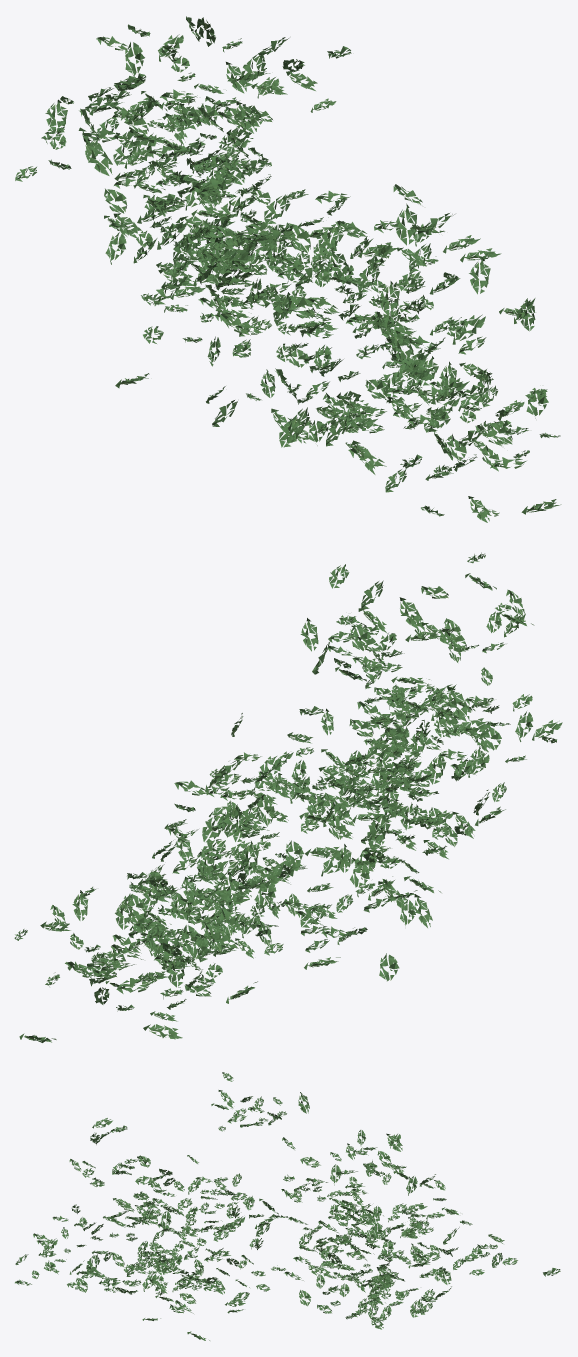
Rendered from holy_canopy10_real.glb.
3 views of the same model, one above another, from view 1: azimuth 30°, elevation 25°; view 2: azimuth 150°, elevation 25°; view 3: azimuth 270°, elevation 25° (orthographic). The views are drawn at different scales.
Parts seen in each view (by area): view 1: holy_canopy10; view 2: holy_canopy10; view 3: holy_canopy10.
Boxes of the visible parts, x1,y1,x2,y2 form: holy_canopy10: (15,16,561,522); holy_canopy10: (14,552,562,1042); holy_canopy10: (15,1072,560,1340).
Bounding box in the file's own units: 9.97 × 12.86 × 28.24.
Materials: 1 (1 with a texture image).
